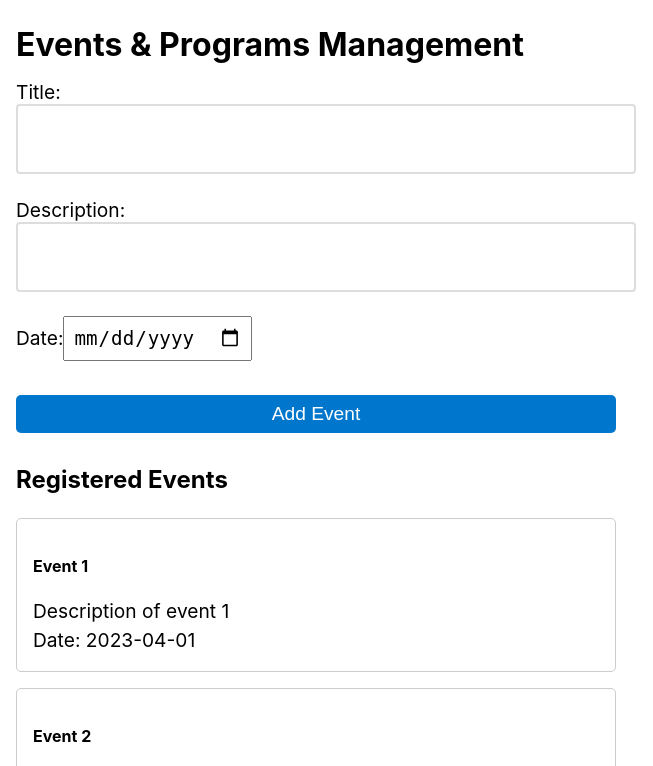
Test case: EventsManagement › should allow adding a new event
Type "New Event" into the field labelled "Title:" at (326, 138), box [16, 104, 636, 174]
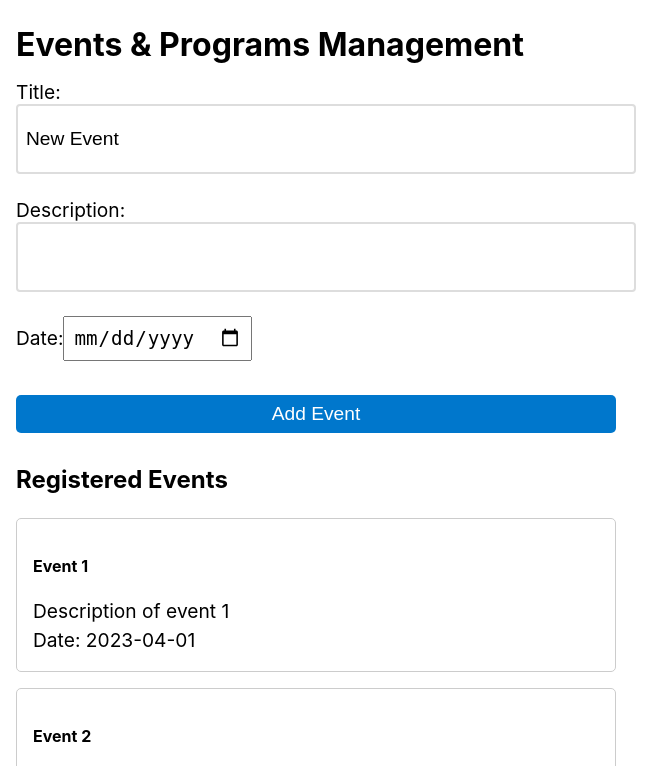
Type "Description of new event" into the field labelled "Description:" at (326, 256), box [16, 222, 636, 292]
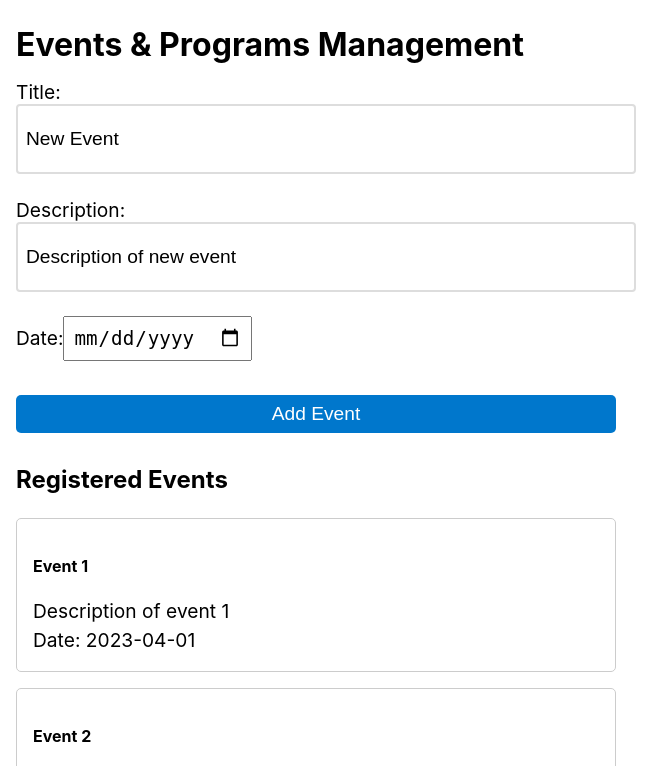
Type "2023-04-22" into the date field labelled "Date:" at (158, 338), box [63, 316, 252, 360]
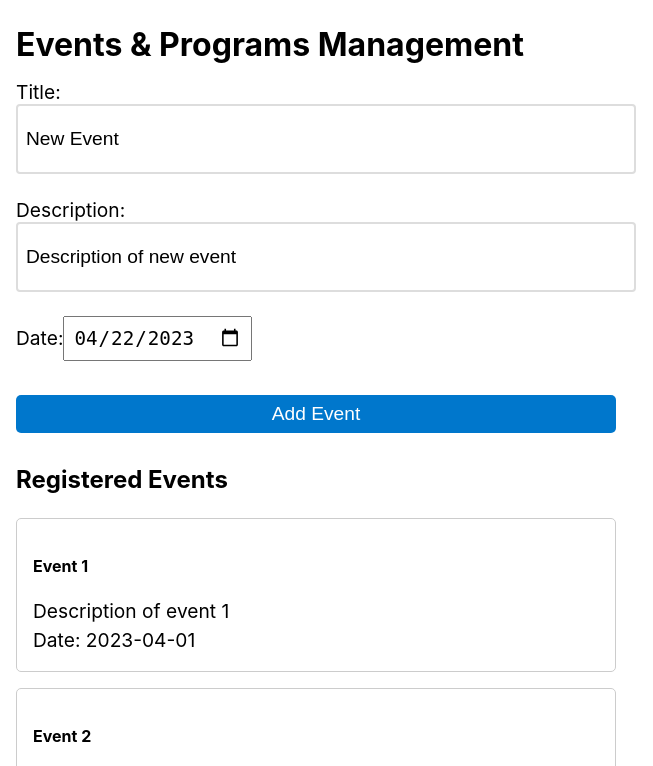
Click the button "Add Event" at (316, 414), box [16, 394, 616, 432]
(page scrolled)
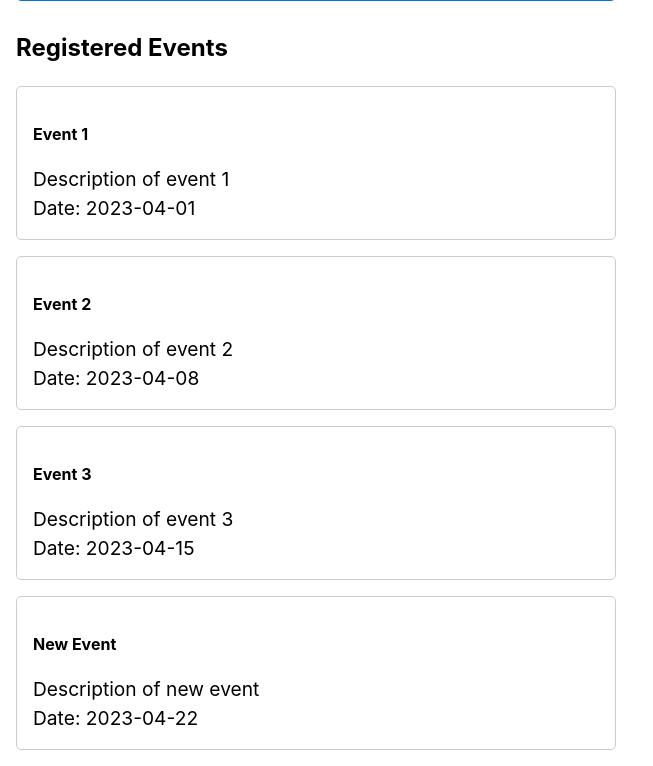
Expected: the heading "New Event" is shown, [33, 634, 116, 654]
Expected: the text "Description of new event" is shown, [33, 678, 259, 702]
Expected: the text "Date: 2023-04-22" is shown, [33, 706, 198, 730]
